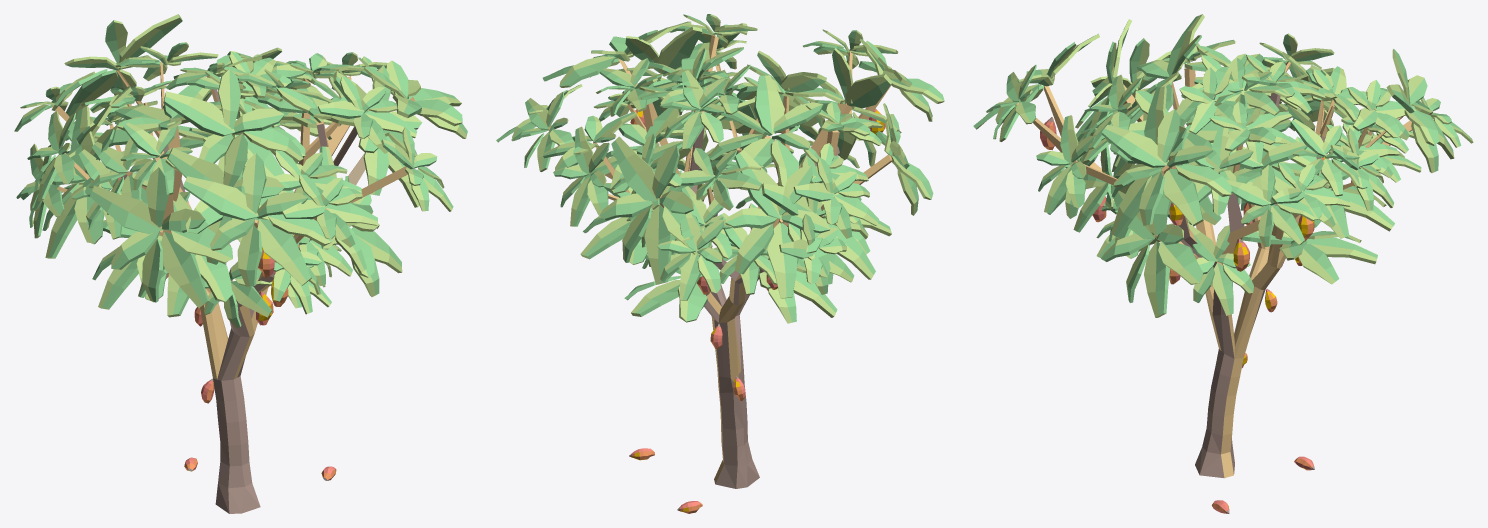
Rendered from peartree.glb.
The picture shows the model from 3 angles, left to right: view 1: azimuth 30°, elevation 25°; view 2: azimuth 150°, elevation 25°; view 3: azimuth 270°, elevation 25°; orthographic projection. The views are drawn at different scales.
Parts seen in each view (by area): view 1: group1389223987, group190246101, group873984559, group1539033776, group325142607, group1575901651, group1825476243, group1936506723, group508053810, group1266423707, group1167592518, group344944543 (+27 smaller); view 2: group1389223987, group325142607, group476619134, group1624080572, group1131197873, group1825476243, group2085411771, group801121828, group1751304221, group1575901651, group1553512775, group1187140785 (+25 smaller); view 3: group1389223987, group508053810, group312537200, group353005602, group1167592518, group1744744289, group1077850852, group344944543, group325142607, group871586078, group283042521, group1626719683 (+26 smaller).
Boxes of the visible parts, left/top/right/bottom form: group1389223987: left=52, top=62, right=414, bottom=513; group190246101: left=90, top=167, right=232, bottom=308; group873984559: left=183, top=153, right=331, bottom=286; group1539033776: left=163, top=68, right=303, bottom=194; group325142607: left=52, top=14, right=182, bottom=119; group1575901651: left=36, top=106, right=114, bottom=258; group1825476243: left=167, top=133, right=284, bottom=264; group1936506723: left=282, top=174, right=377, bottom=247; group508053810: left=363, top=60, right=467, bottom=138; group1266423707: left=318, top=76, right=416, bottom=153; group1167592518: left=333, top=65, right=422, bottom=207; group344944543: left=381, top=127, right=453, bottom=211; group1389223987: left=548, top=35, right=892, bottom=488; group325142607: left=599, top=136, right=708, bottom=284; group476619134: left=725, top=149, right=830, bottom=298; group1624080572: left=708, top=75, right=823, bottom=186; group1131197873: left=657, top=212, right=723, bottom=300; group1825476243: left=802, top=48, right=901, bottom=166; group2085411771: left=793, top=157, right=878, bottom=238; group801121828: left=553, top=126, right=609, bottom=226; group1751304221: left=660, top=70, right=725, bottom=150; group1575901651: left=761, top=155, right=875, bottom=284; group1553512775: left=667, top=148, right=763, bottom=210; group1187140785: left=779, top=214, right=854, bottom=294; group1389223987: left=1016, top=61, right=1411, bottom=478; group508053810: left=1101, top=109, right=1231, bottom=226; group312537200: left=1101, top=185, right=1203, bottom=317; group353005602: left=1226, top=164, right=1316, bottom=247; group1167592518: left=1110, top=86, right=1186, bottom=237; group1744744289: left=1242, top=219, right=1377, bottom=284; group1077850852: left=1188, top=223, right=1253, bottom=315; group344944543: left=1036, top=115, right=1095, bottom=213; group325142607: left=1386, top=49, right=1454, bottom=172; group871586078: left=1290, top=119, right=1360, bottom=196; group283042521: left=1271, top=162, right=1350, bottom=228; group1626719683: left=1179, top=66, right=1260, bottom=134.
Bounding box in the file's own units: 6.69 × 7.41 × 7.86.
